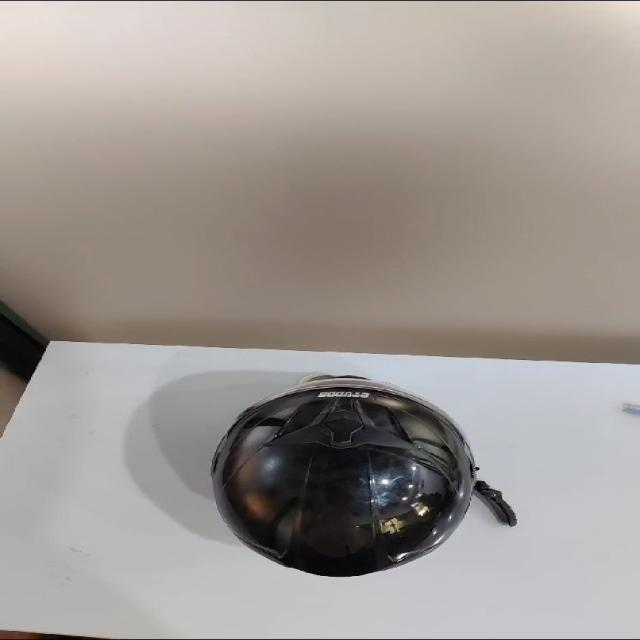helmet: (176, 369, 478, 591)
